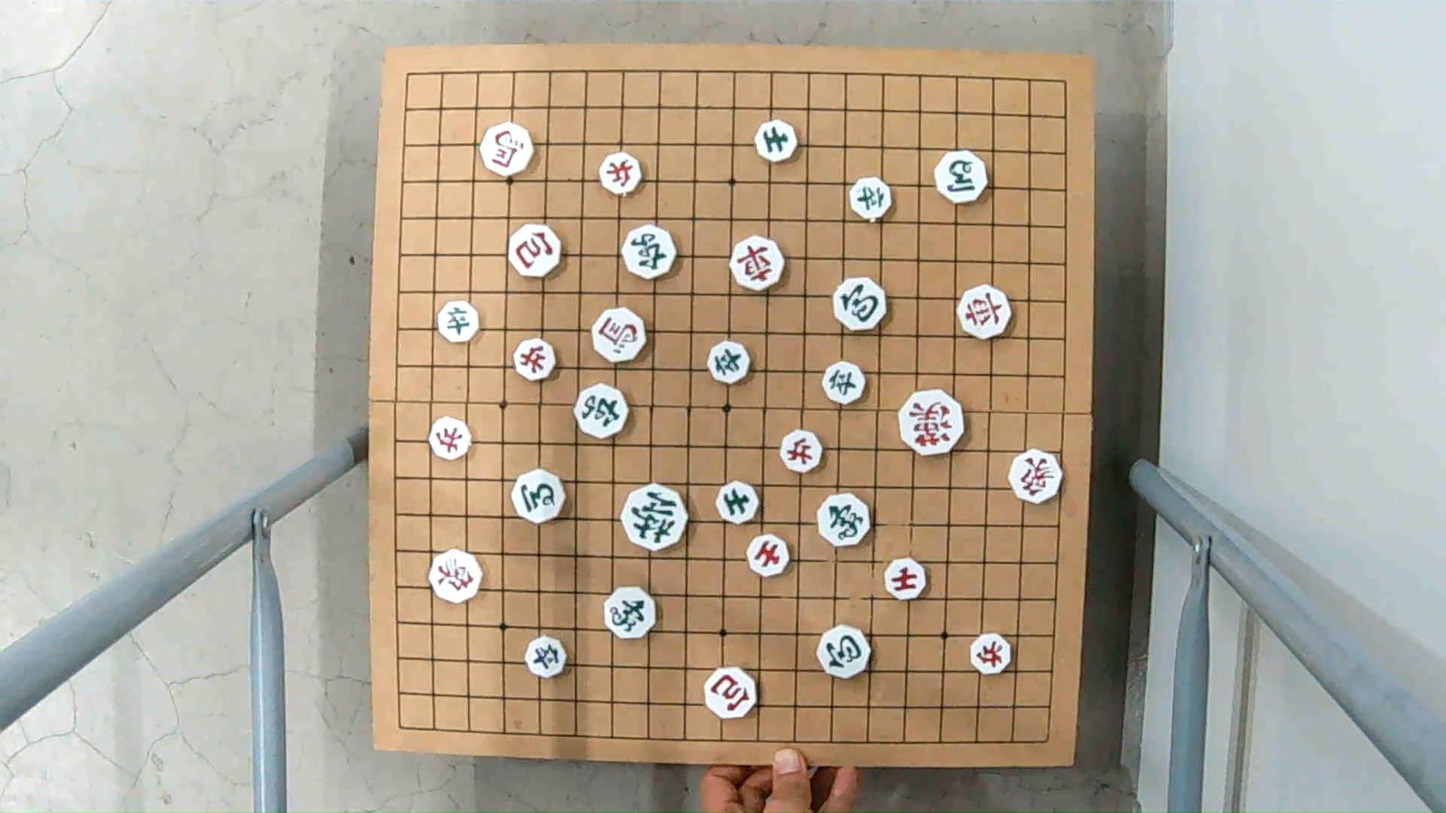cha_green: (620, 227, 678, 277), (574, 386, 630, 436)
cha_red: (731, 236, 785, 293), (953, 285, 1012, 335)
jol_green: (706, 342, 752, 385), (848, 177, 895, 218), (820, 362, 868, 400), (435, 303, 481, 342), (523, 638, 565, 678)
jol_red: (511, 341, 559, 379), (599, 153, 644, 193), (428, 419, 473, 458), (779, 433, 822, 471), (970, 635, 1011, 674)
ma_green: (510, 471, 568, 522), (932, 151, 989, 202)
ma_red: (590, 310, 649, 361), (480, 125, 536, 174)
po_green: (816, 626, 871, 674), (831, 279, 887, 326)
po_red: (701, 666, 757, 717), (505, 227, 561, 276)
sa_green: (714, 483, 761, 523), (753, 122, 800, 162)
sa_red: (749, 536, 789, 574), (884, 561, 924, 599)
sang_green: (819, 495, 872, 547), (608, 587, 656, 638)
sang_red: (1006, 453, 1064, 502), (430, 553, 481, 602)
wang_green: (620, 488, 687, 546)
wang_red: (897, 392, 967, 452)
